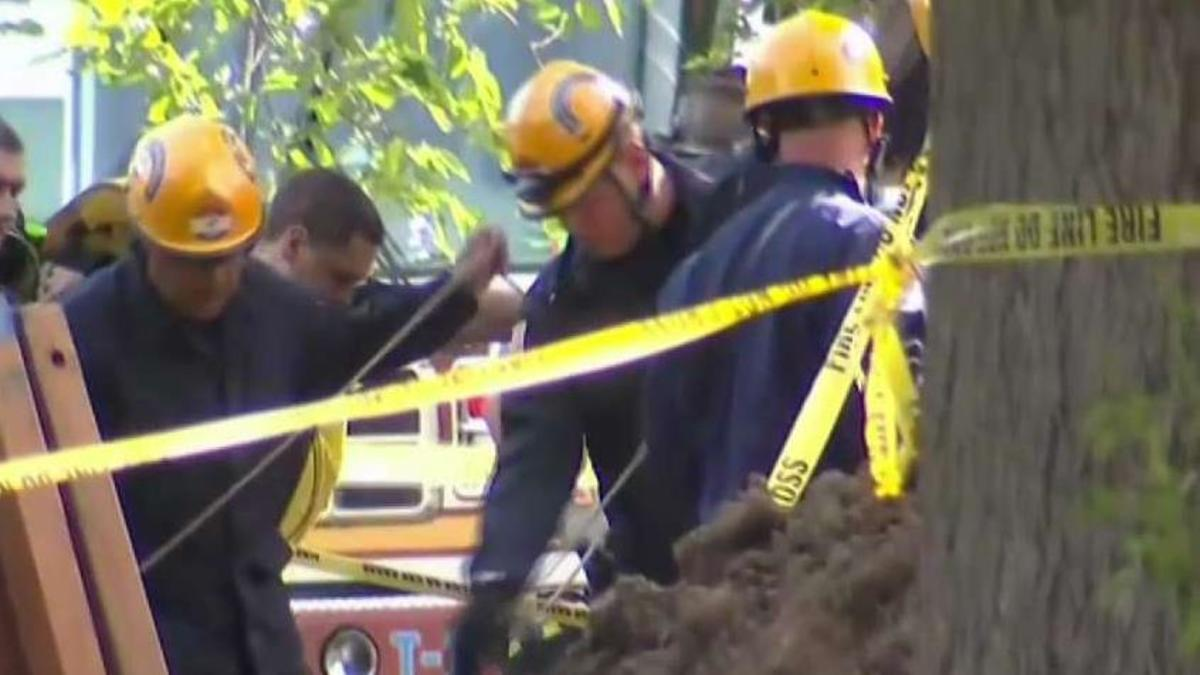helmet: (500, 60, 649, 223), (126, 116, 267, 260), (737, 8, 899, 121)
